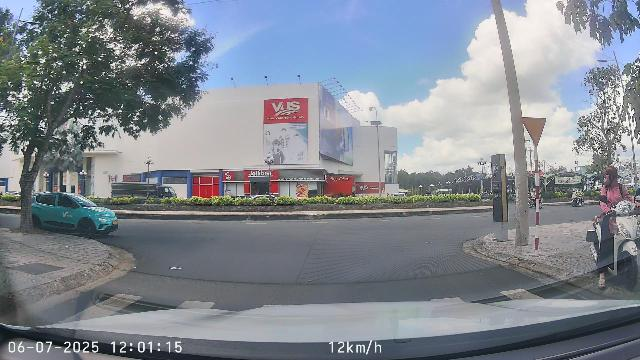208-giao-nhau-voi-duong-uu-tien: (521, 117, 546, 146)
